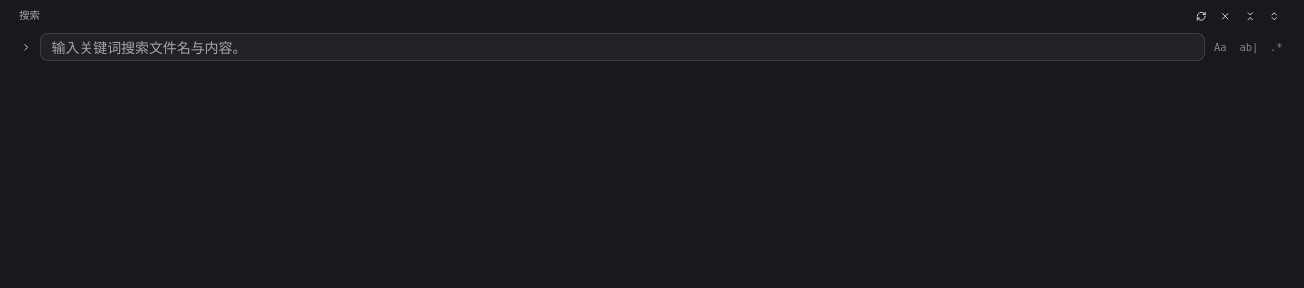
grouped results › groups by file with name / relative path / count badge
This screenshot has width=1304, height=288.
Type "foo" into the field labelled "搜索" at (622, 47), box [40,33,1204,61]
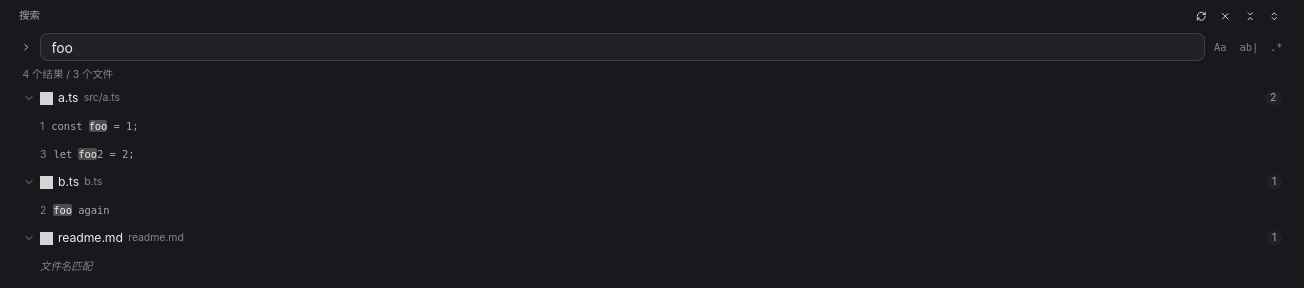
expect the text "src/a.ts" is shown: met, box [84,91,120,105]
